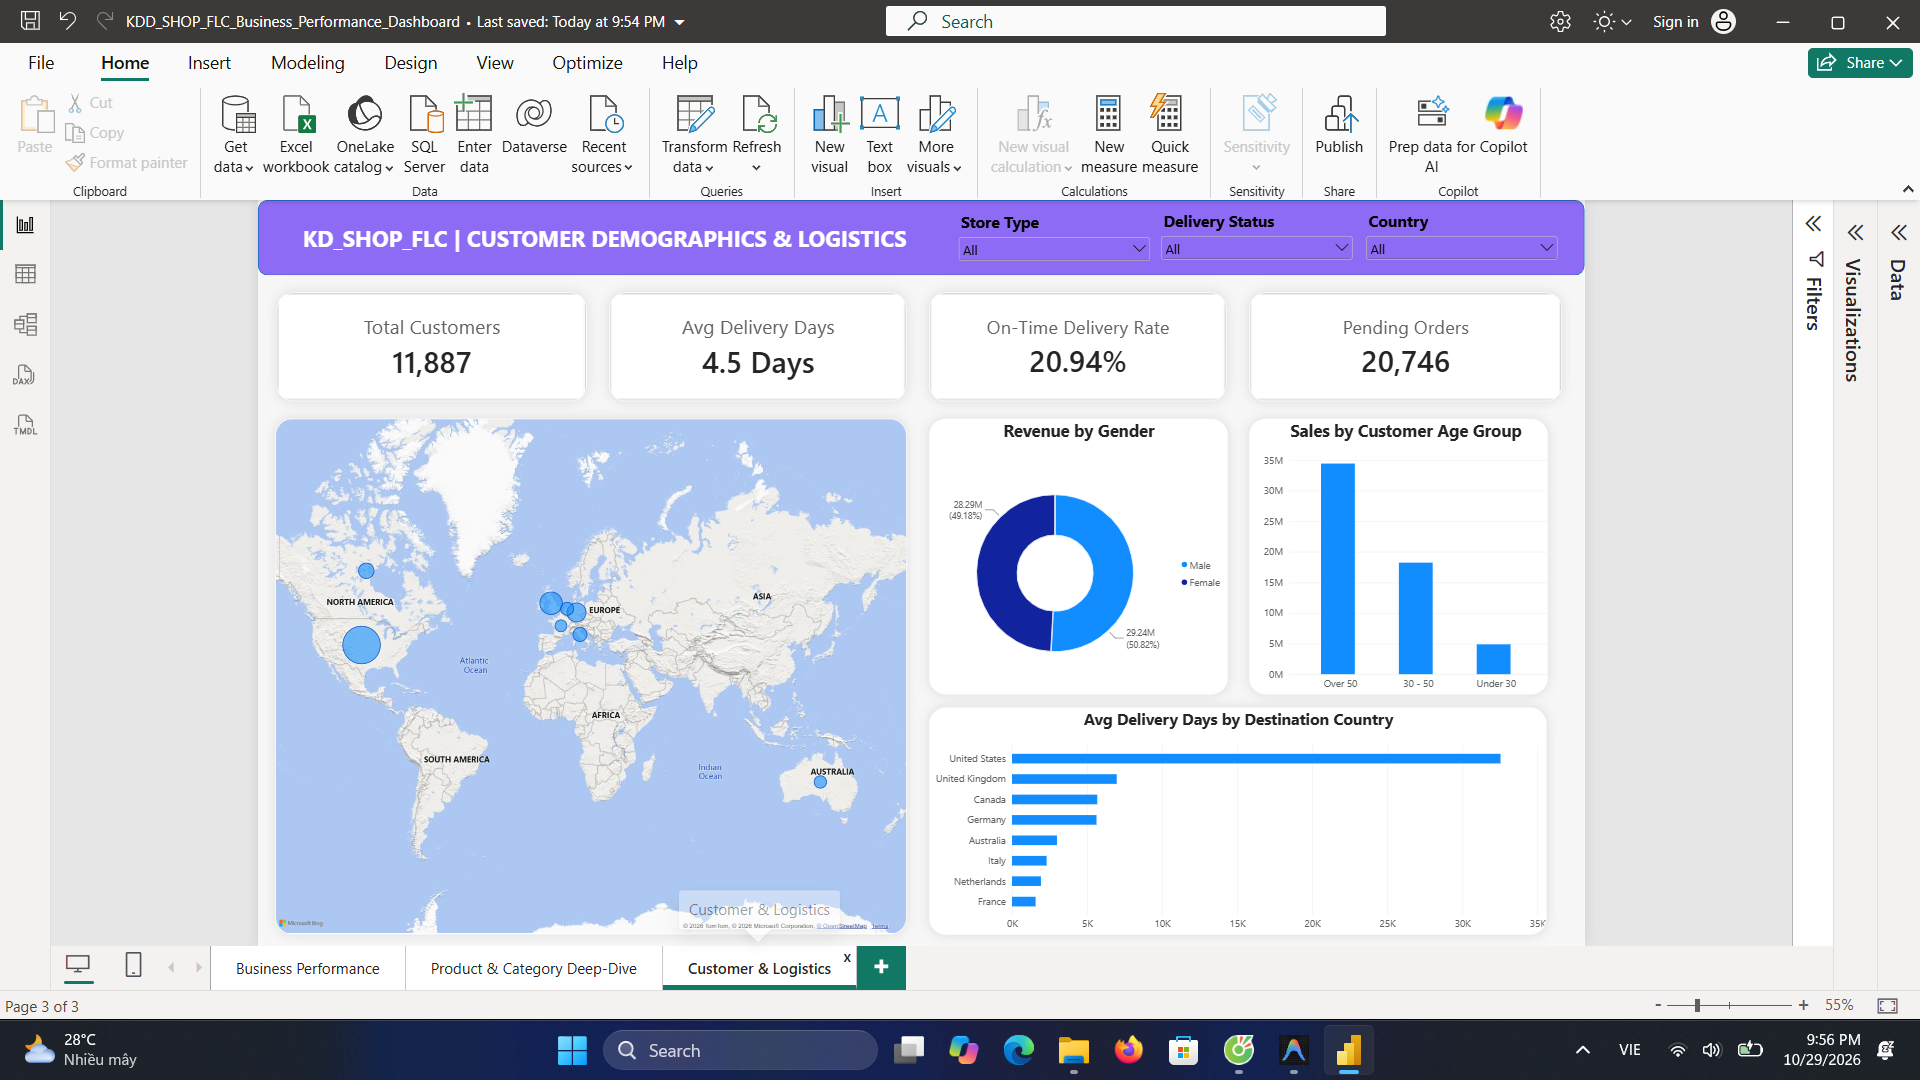

Layout of this report page (visuals, bound fields, positions):
{"tool":"powerbi","page":{"name":"Customer & Logistics","canvas":[1920,1080],"ordinal":2},"visuals":[{"type":"shape","box":[0,0,1920.4,109.1],"z":0},{"type":"slicer","title":"Region","fields":{"Values":["dim_customer.country"]},"box":[1599.7,14.1,286.4,74.6],"z":1000},{"type":"slicer","title":"Category","fields":{"Values":["agg_daily_store_sales.store_size_category"]},"box":[1010.6,16.1,286.4,82.7],"z":2000},{"type":"slicer","title":"Product Brand","fields":{"Values":["fact_sales.order_status"]},"box":[1303.1,14.1,286.4,78.7],"z":3000},{"type":"cardVisual","fields":{"Data":["fact_sales.Total Customers"]},"box":[27.3,134.8,448.8,157.4],"z":4000},{"type":"cardVisual","fields":{"Data":["fact_sales.Avg Delivery Days"]},"box":[508.7,134.8,430.7,157.4],"z":5000},{"type":"cardVisual","fields":{"Data":["fact_sales.On-Time Delivery Rate"]},"box":[972,134.8,430.7,157.4],"z":6000},{"type":"cardVisual","fields":{"Data":["fact_sales.Pending Orders"]},"box":[1435.3,134.8,452.4,157.4],"z":7000},{"type":"map","fields":{"Category":["dim_customer.country"],"Size":["fact_sales.Total Sales USD"]},"box":[26.2,316.7,913.8,746.4],"z":7001},{"type":"donutChart","title":"Revenue by Gender","fields":{"Category":["dim_customer.gender"],"Y":["fact_sales.Total Sales USD"]},"box":[972.3,316.7,431.7,399.4],"z":7002},{"type":"clusteredColumnChart","title":"Sales by Customer Age Group","fields":{"Category":["dim_customer.age_group"],"Y":["fact_sales.Total Sales USD"]},"box":[1434.3,316.7,432,399],"z":7003},{"type":"clusteredBarChart","title":"Avg Delivery Days by Destination Country","fields":{"Category":["dim_customer.country"],"Y":["Sum(fact_sales.delivery_days)"]},"box":[972.3,734.3,893.6,328.8],"z":7004}]}

Visuals, with their boxes on the page's 1920x1080 design canvas (x1, y1, x2, y2). These are canvas units, not pixel positions in the 1920x1080 screenshot, which may show the page scaled, cropped or inside an application window:
shape: BBox(0, 0, 1920, 109)
"Region" slicer: BBox(1600, 14, 1886, 89)
"Category" slicer: BBox(1011, 16, 1297, 99)
"Product Brand" slicer: BBox(1303, 14, 1590, 93)
cardVisual - fact_sales.Total Customers: BBox(27, 135, 476, 292)
cardVisual - fact_sales.Avg Delivery Days: BBox(509, 135, 939, 292)
cardVisual - fact_sales.On-Time Delivery Rate: BBox(972, 135, 1403, 292)
cardVisual - fact_sales.Pending Orders: BBox(1435, 135, 1888, 292)
map - dim_customer.country x fact_sales.Total Sales USD: BBox(26, 317, 940, 1063)
"Revenue by Gender" donutChart: BBox(972, 317, 1404, 716)
"Sales by Customer Age Group" clusteredColumnChart: BBox(1434, 317, 1866, 716)
"Avg Delivery Days by Destination Country" clusteredBarChart: BBox(972, 734, 1866, 1063)
